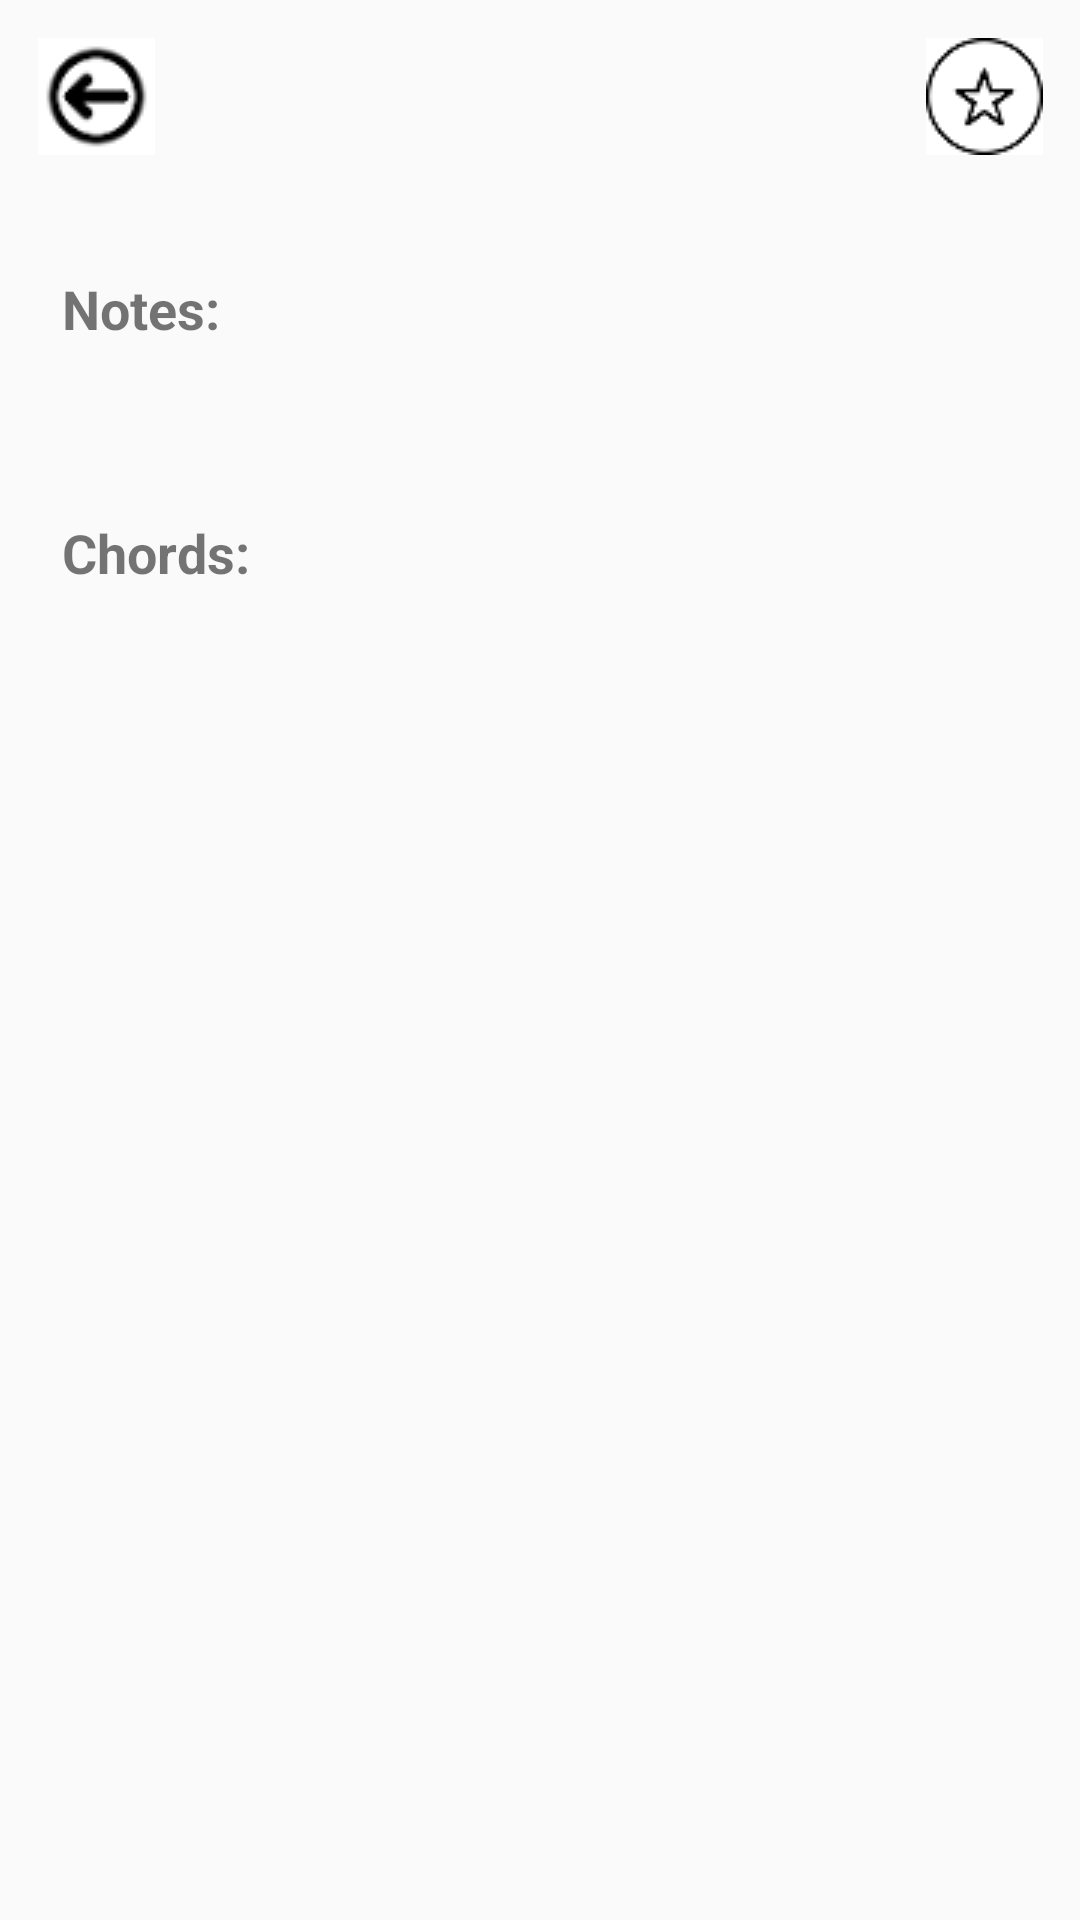

Screen size 1080px x 1920px. Icon name, then its box in pixels as detection(x1, y1, x2, y2):
back: detection(47, 47, 146, 146)
favorite: detection(926, 38, 1043, 155)
